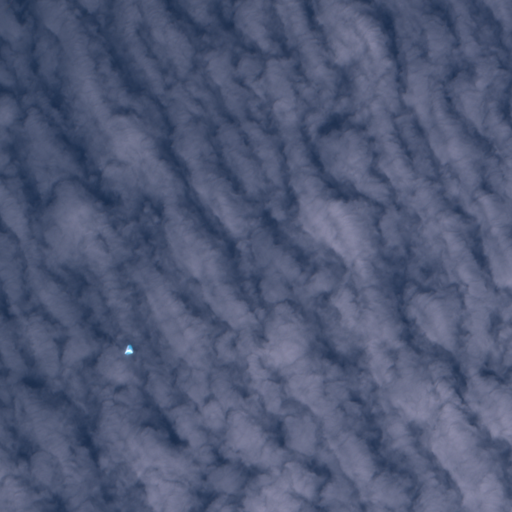Iceberg: (124, 344, 133, 354)
